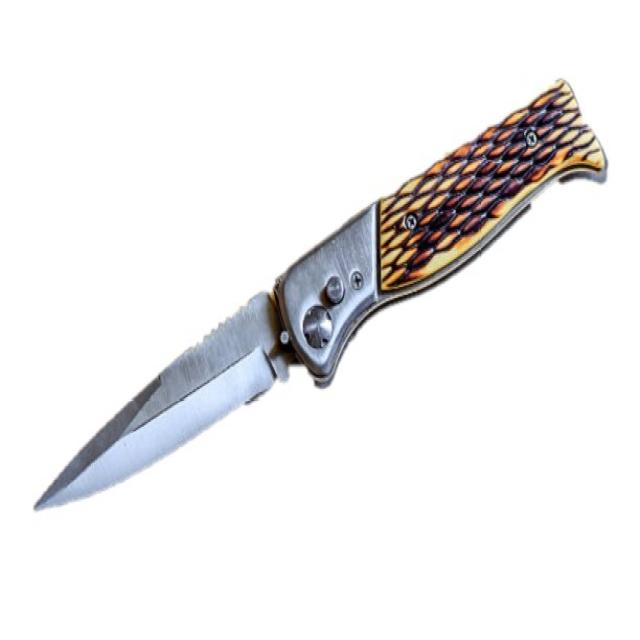knife: (24, 66, 612, 531)
